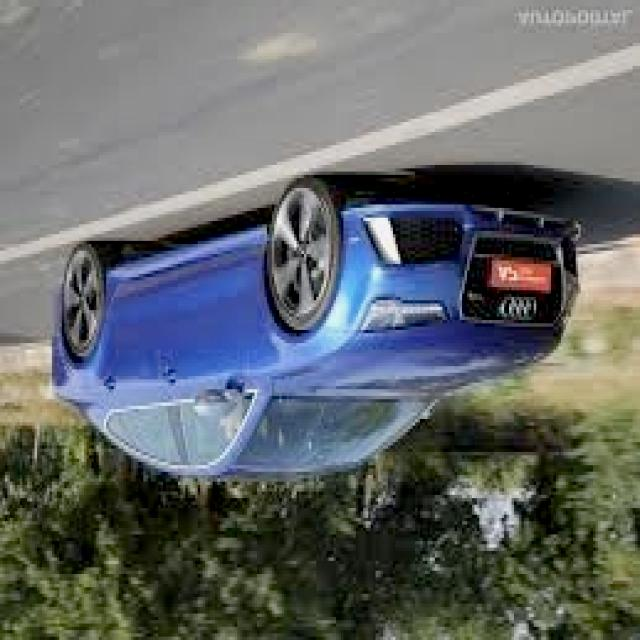blue: (50, 197, 584, 482)
